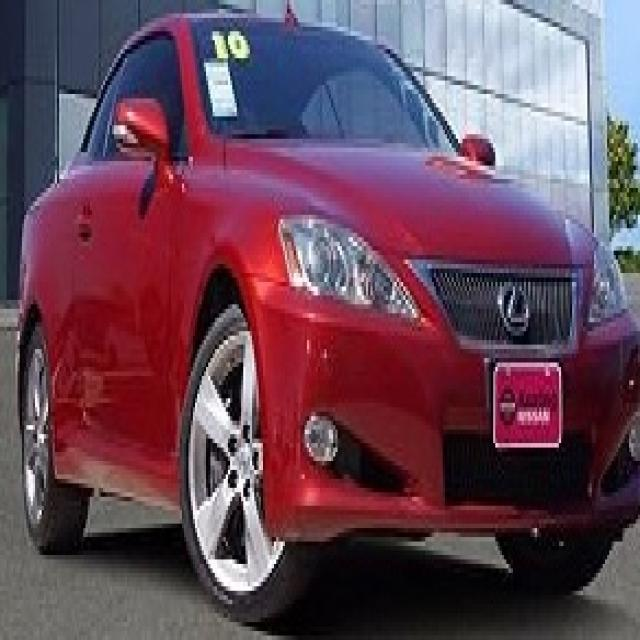red: (21, 13, 640, 562)
